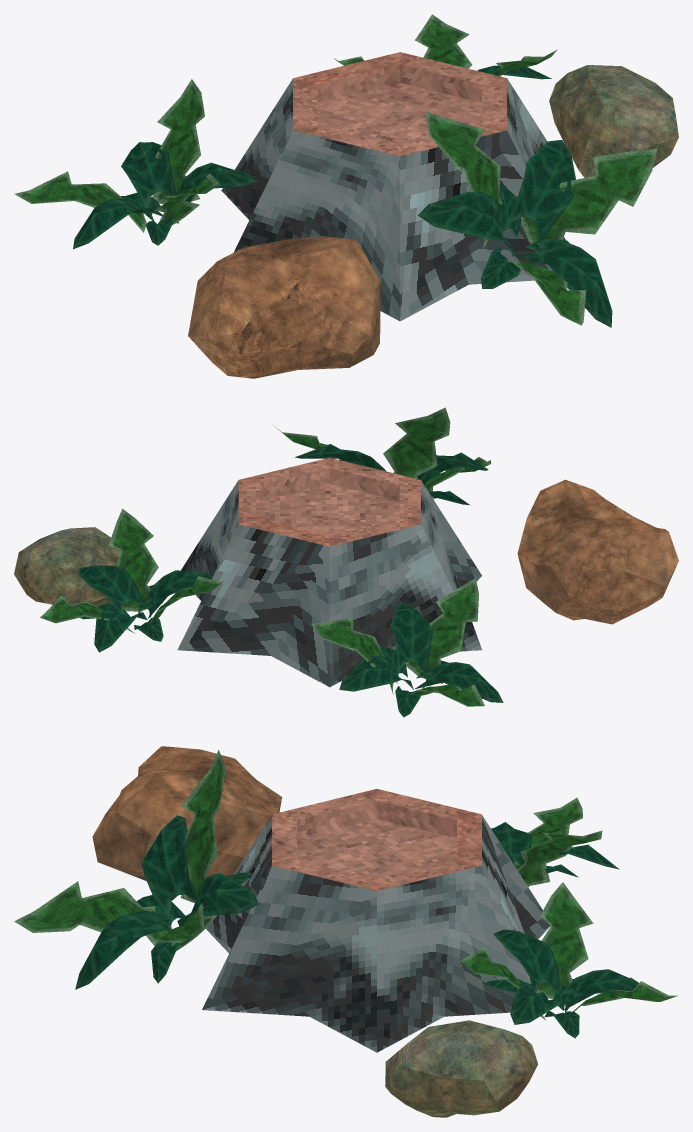
Rendered from prefab_21.glb.
3 views of the same model, one above another, from view 1: azimuth 30°, elevation 25°; view 2: azimuth 150°, elevation 25°; view 3: azimuth 270°, elevation 25° (orthographic). The views are drawn at different scales.
Visible parts, largest first — view 1: PRFB_21-convex; view 2: PRFB_21-convex; view 3: PRFB_21-convex.
Boxes of the visible parts, left/top/right/bottom form: PRFB_21-convex: left=14, top=14, right=678, bottom=378; PRFB_21-convex: left=14, top=407, right=678, bottom=717; PRFB_21-convex: left=14, top=746, right=678, bottom=1117.
Size of the model in its own units: 3.23 by 1.14 by 3.1.
3 materials, 3 textured.
